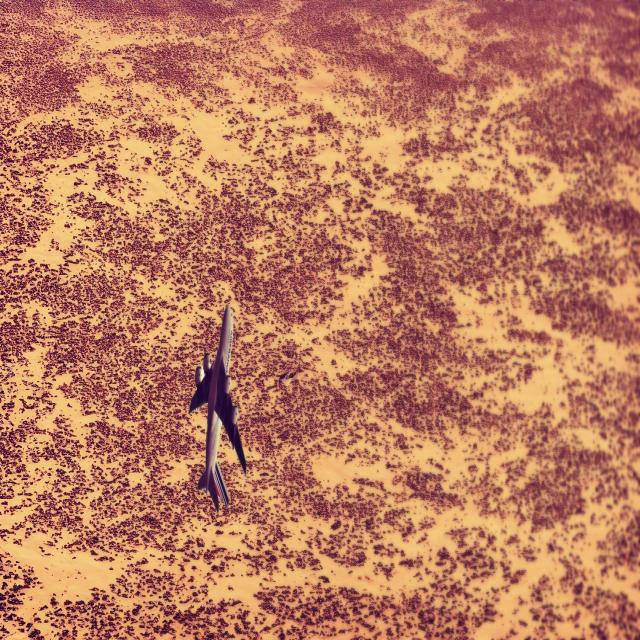airplane: (188, 304, 247, 513)
